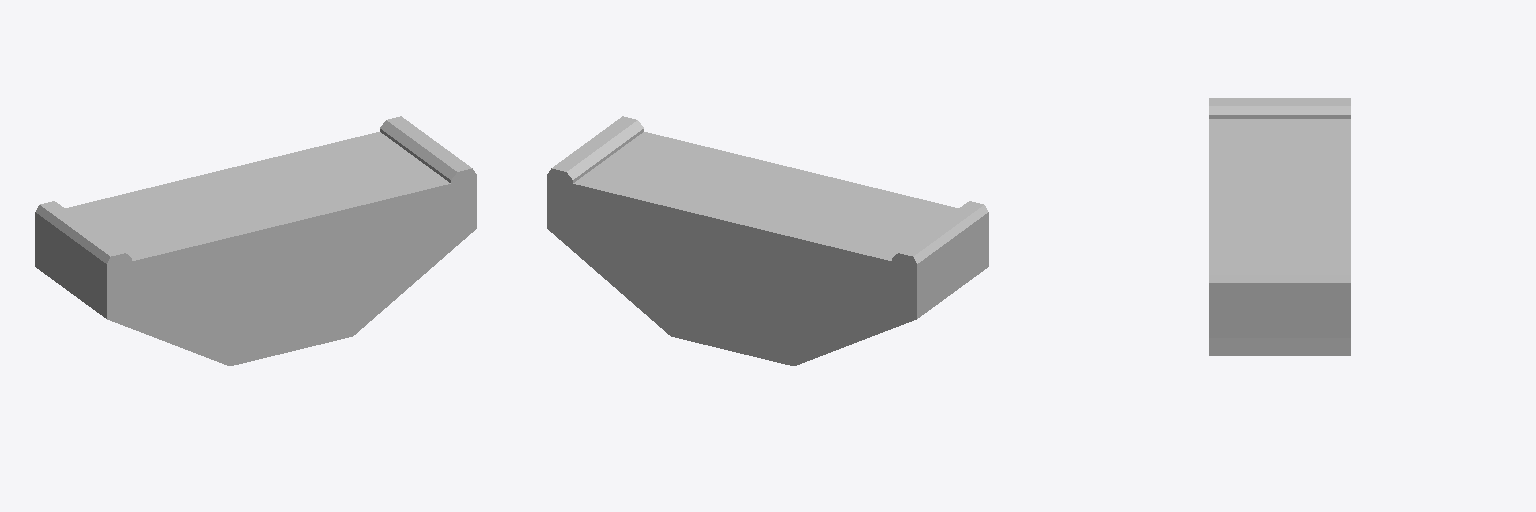
File: Spacestation_Structure_Runway_Mid.obj
The picture shows the model from 3 angles: view 1: azimuth 30°, elevation 25°; view 2: azimuth 150°, elevation 25°; view 3: azimuth 270°, elevation 25°; orthographic projection.
Visible parts, largest first — view 1: object5, object2, object8, object6, object1, object3, object4, object7; view 2: object5, object2, object8, object6, object1, object3, object4, object7; view 3: object5, object2, object8, object1, object3, object4, object7, object6.
Part boxes in pixels (left/top/right/bottom): object5: left=35, top=116, right=476, bottom=365; object2: left=116, top=174, right=278, bottom=254; object8: left=233, top=145, right=395, bottom=225; object6: left=351, top=132, right=450, bottom=196; object1: left=65, top=202, right=161, bottom=267; object3: left=208, top=167, right=303, bottom=230; object4: left=92, top=196, right=186, bottom=259; object7: left=326, top=139, right=420, bottom=199; object5: left=547, top=116, right=988, bottom=365; object2: left=745, top=174, right=907, bottom=254; object8: left=628, top=145, right=790, bottom=224; object6: left=573, top=132, right=672, bottom=193; object1: left=862, top=202, right=958, bottom=267; object3: left=720, top=167, right=815, bottom=231; object4: left=837, top=196, right=931, bottom=259; object7: left=603, top=139, right=697, bottom=199; object5: left=1209, top=98, right=1350, bottom=355; object2: left=1209, top=145, right=1350, bottom=189; object8: left=1209, top=203, right=1350, bottom=247; object1: left=1209, top=119, right=1350, bottom=132; object3: left=1209, top=190, right=1350, bottom=202; object4: left=1209, top=133, right=1350, bottom=144; object7: left=1209, top=248, right=1350, bottom=259; object6: left=1209, top=260, right=1350, bottom=266.
Size of the model in its own units: 3 by 1.08 by 1.